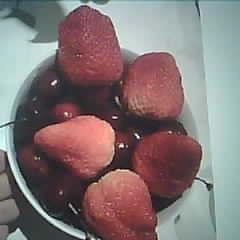straw-ripe: (58, 5, 123, 85), (34, 116, 116, 178), (87, 171, 158, 240), (134, 132, 203, 197), (124, 51, 184, 121)
